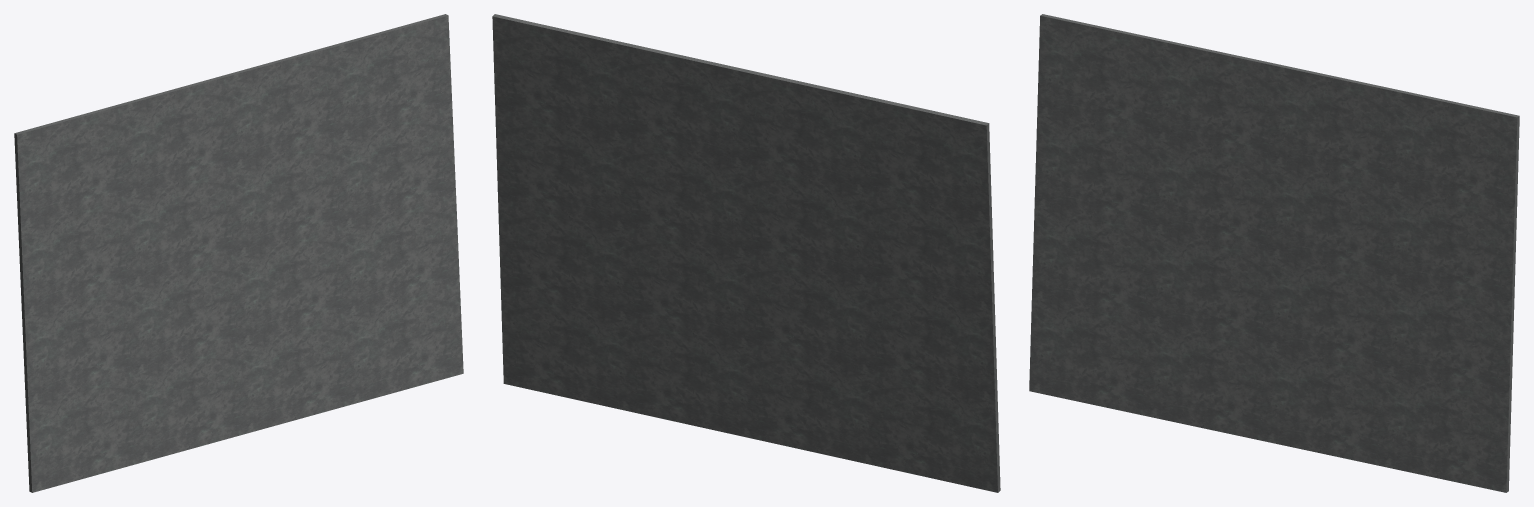
Rendered from bal+terr_glass.glb.
3 views of the same model, side by side, from view 1: azimuth 30°, elevation 25°; view 2: azimuth 150°, elevation 25°; view 3: azimuth 330°, elevation 25° (orthographic). The views are drawn at different scales.
Parts seen in each view (by area): view 1: Cube; view 2: Cube; view 3: Cube.
Part boxes in pixels (x1=…): Cube: x1=14, y1=14, x2=463, y2=492; Cube: x1=492, y1=14, x2=1000, y2=492; Cube: x1=1029, y1=14, x2=1519, y2=492.
Bounding box in the file's own units: 7.05 × 5.3 × 0.7645.
Materials: 1 (1 with a texture image).
